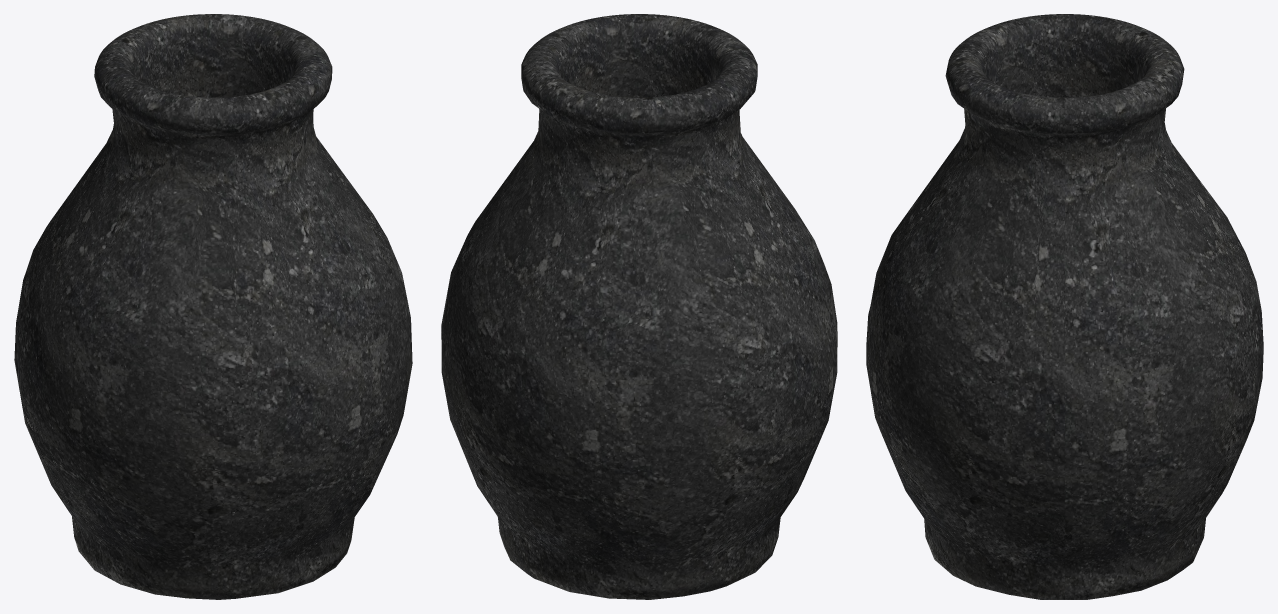
Rendered from boop-vase-small-black-detail.glb.
3 renders of one model, left to right at view 1: azimuth 30°, elevation 25°; view 2: azimuth 150°, elevation 25°; view 3: azimuth 270°, elevation 25°, orthographic.
Parts seen in each view (by area): view 1: boop-vase-small-black-detail; view 2: boop-vase-small-black-detail; view 3: boop-vase-small-black-detail.
Part boxes in pixels (x1,y1,x2,y2): boop-vase-small-black-detail: [14, 14, 412, 599]; boop-vase-small-black-detail: [441, 14, 837, 599]; boop-vase-small-black-detail: [866, 14, 1263, 599].
Size of the model in its own units: 0.0167 by 0.0226 by 0.0167.
Materials: 1 (1 with a texture image).
